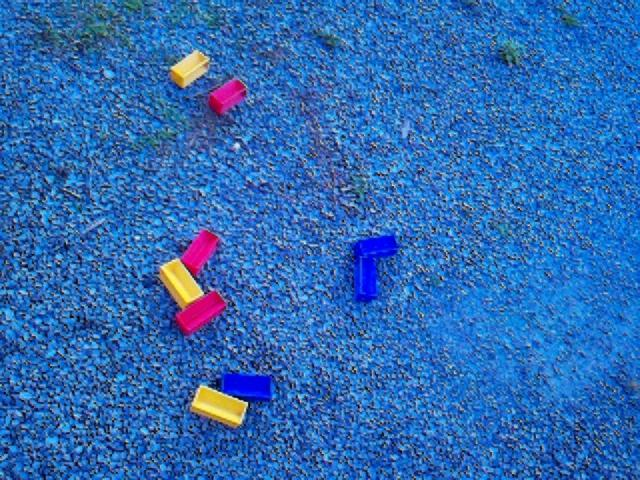blue: (219, 372, 275, 402), (352, 234, 400, 260), (354, 256, 379, 305)
red: (175, 291, 227, 336), (180, 229, 220, 277), (208, 78, 248, 116)
yellow: (190, 384, 249, 429), (159, 258, 205, 309), (170, 49, 211, 89)
